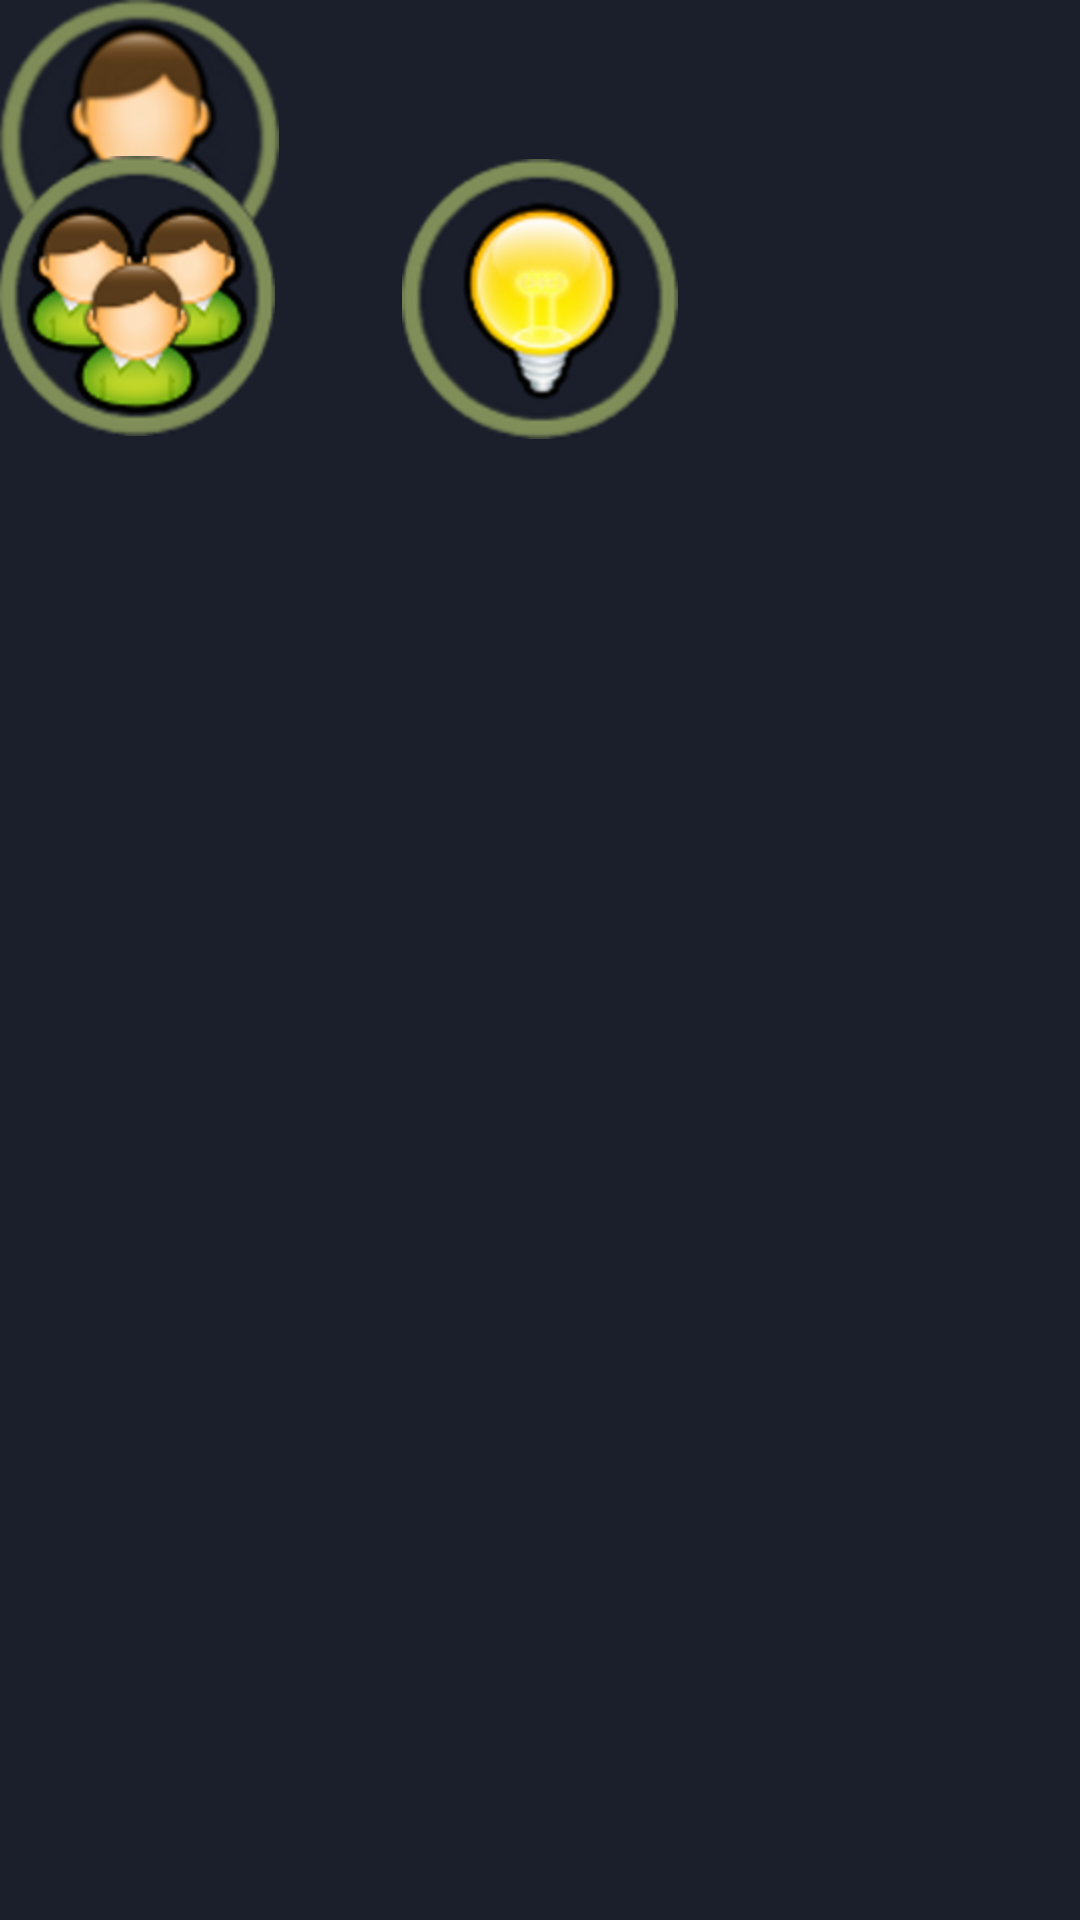

Icon click points for this 1080*1920 phone screenshot, format (x=x, y=y):
user: (x=139, y=140)
users: (x=137, y=310)
